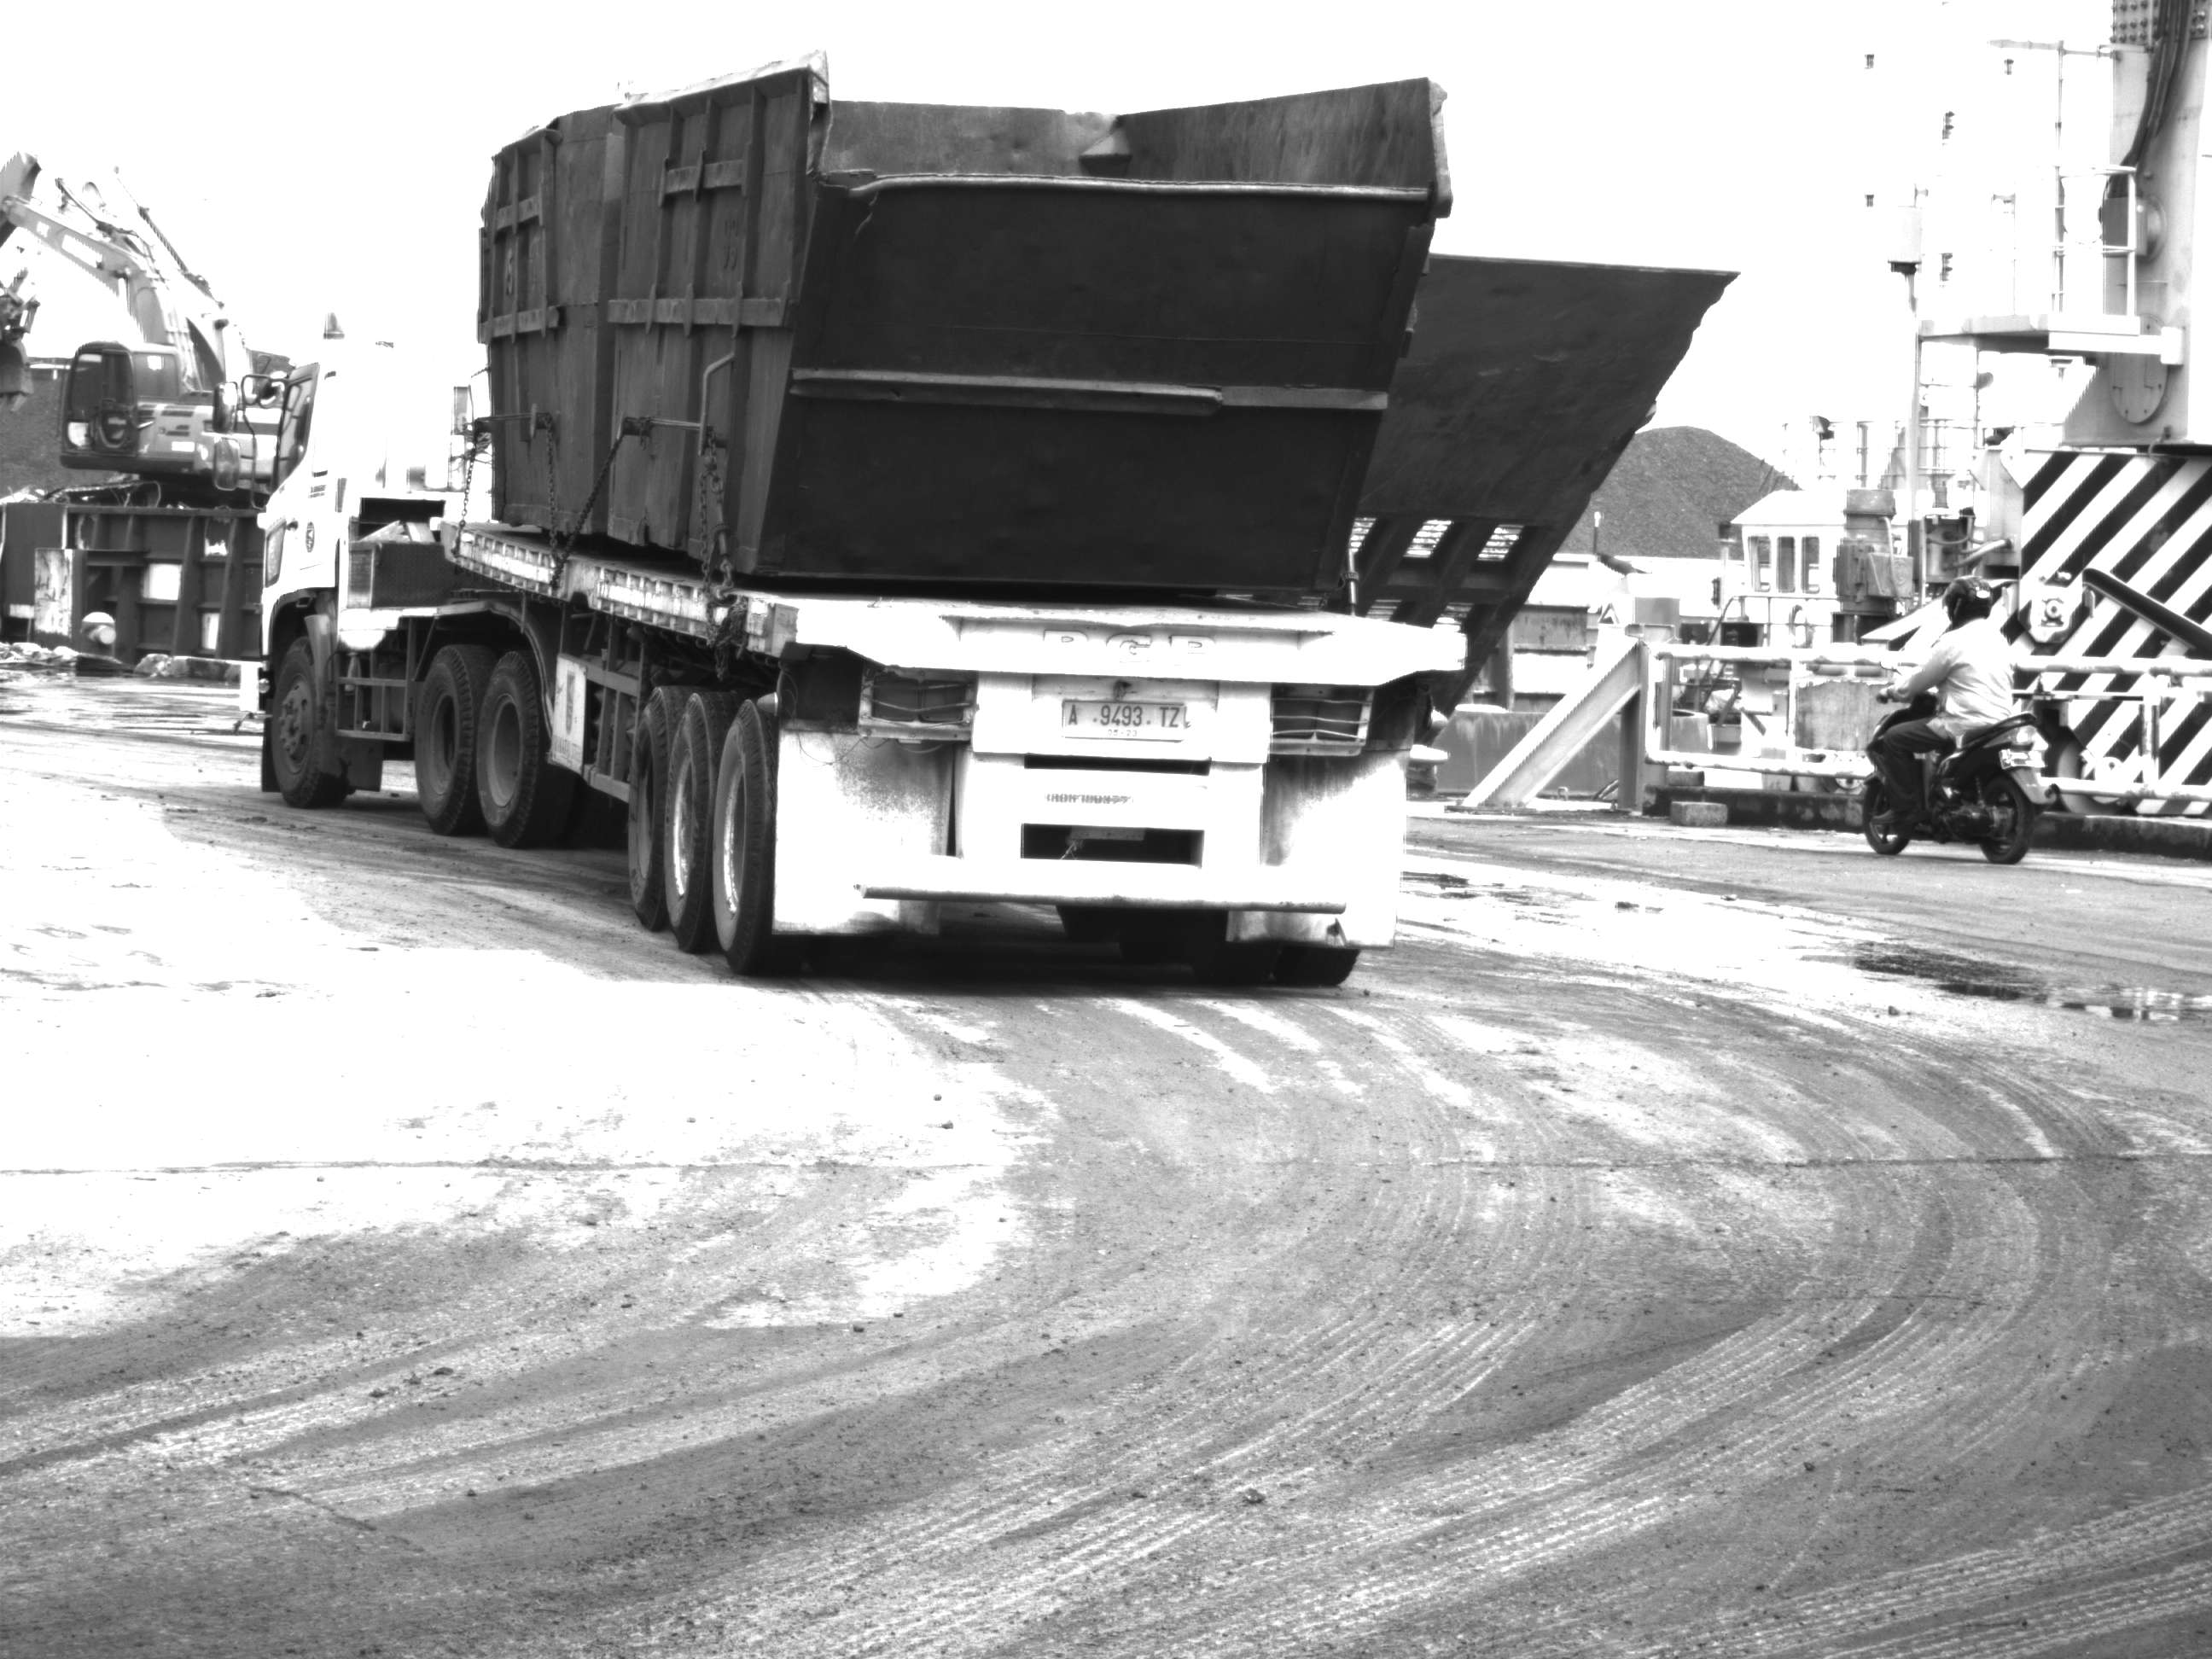day_truck_rear: (701, 571, 1487, 1006)
plate: (1058, 692, 1193, 747)
